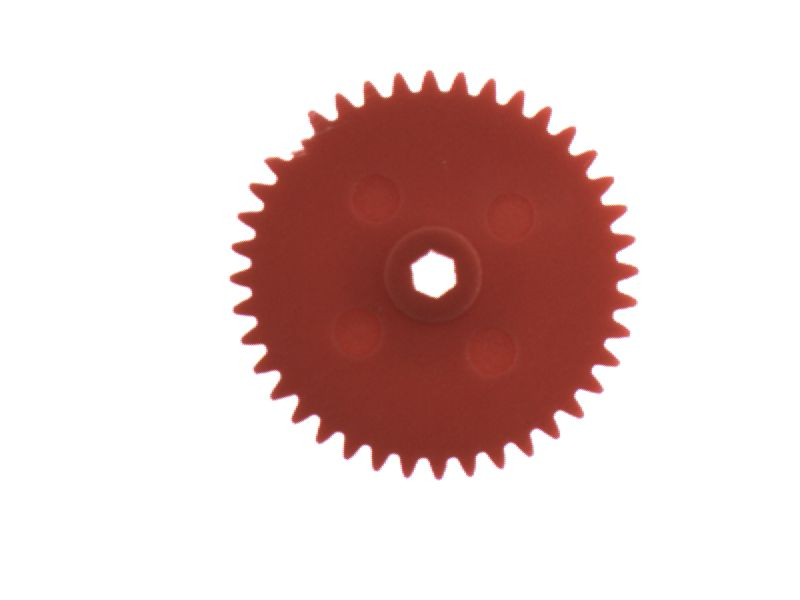defect_lack: (269, 114, 329, 171)
